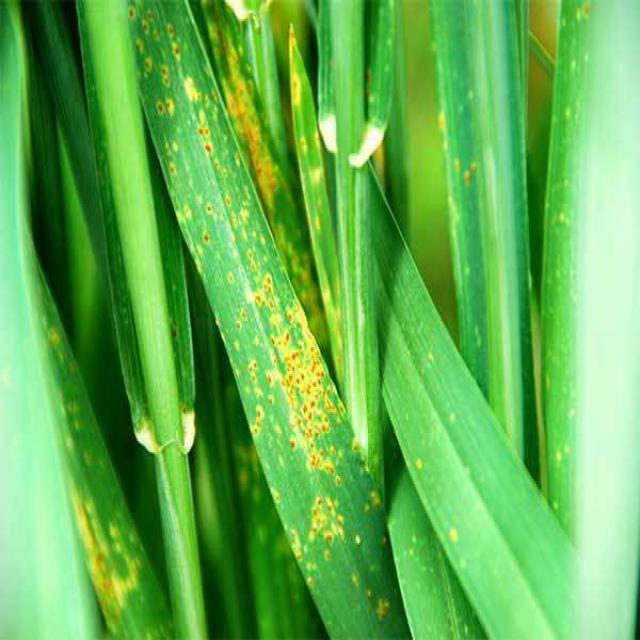wheat-stemrust: (126, 0, 413, 640), (21, 215, 174, 640), (199, 0, 333, 366), (288, 24, 347, 393)
